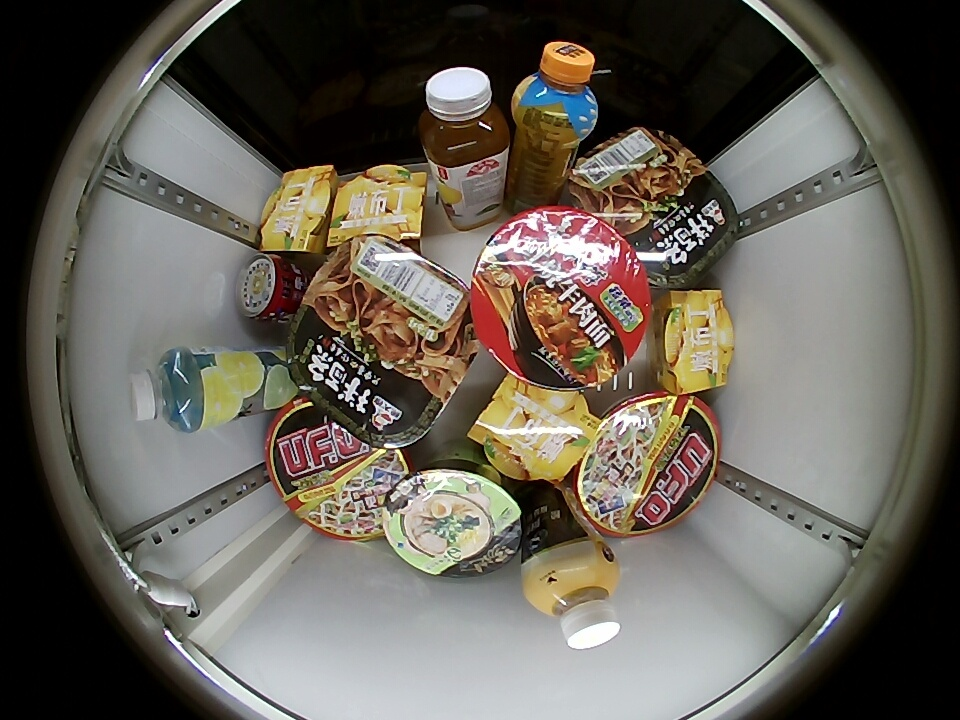asamu: (525, 557, 621, 651)
buding: (466, 376, 600, 481), (653, 289, 735, 394), (327, 165, 426, 247), (259, 166, 337, 253)
chapai: (418, 67, 511, 169)
gudasao: (286, 233, 483, 448), (568, 125, 740, 281)
guolicheng: (512, 42, 599, 141)
hongshaoniurou: (470, 207, 650, 391)
qinningshui: (128, 347, 210, 433)
tangdaren: (384, 467, 521, 577)
ufo2: (570, 393, 720, 536), (266, 397, 409, 542)
wangzainiunai: (236, 253, 311, 328)
